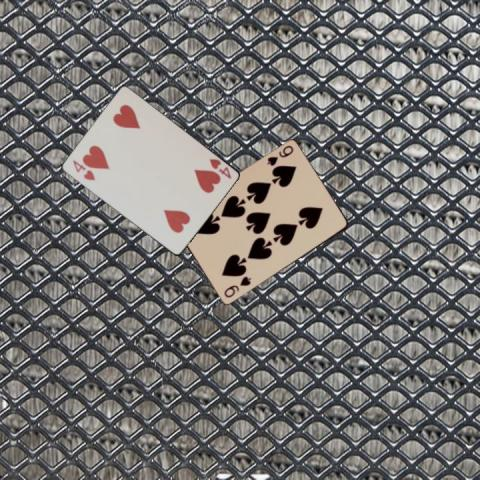4h: (69, 157, 97, 182), (206, 155, 233, 180)
9s: (221, 274, 252, 300), (264, 143, 295, 167)
